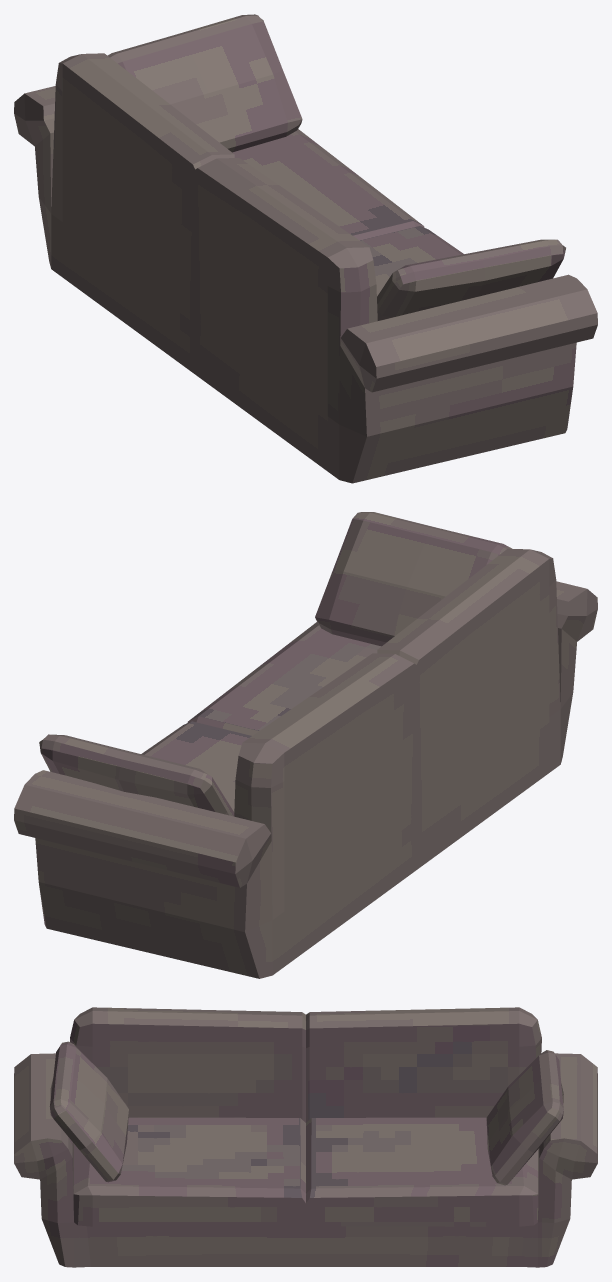
File: Sofa1.fbx
The picture shows the model from 3 angles, top to bottom: view 1: azimuth 30°, elevation 25°; view 2: azimuth 150°, elevation 25°; view 3: azimuth 270°, elevation 25°; orthographic projection. The views are drawn at different scales.
Visible parts, largest first — view 1: Cube.005; view 2: Cube.005; view 3: Cube.005.
Part boxes in pixels (x1=…): Cube.005: x1=14, y1=14, x2=597, y2=483; Cube.005: x1=14, y1=512, x2=597, y2=978; Cube.005: x1=14, y1=1007, x2=597, y2=1267.
Size of the model in its own units: 565 by 516 by 1506.
1 material, 1 textured.
